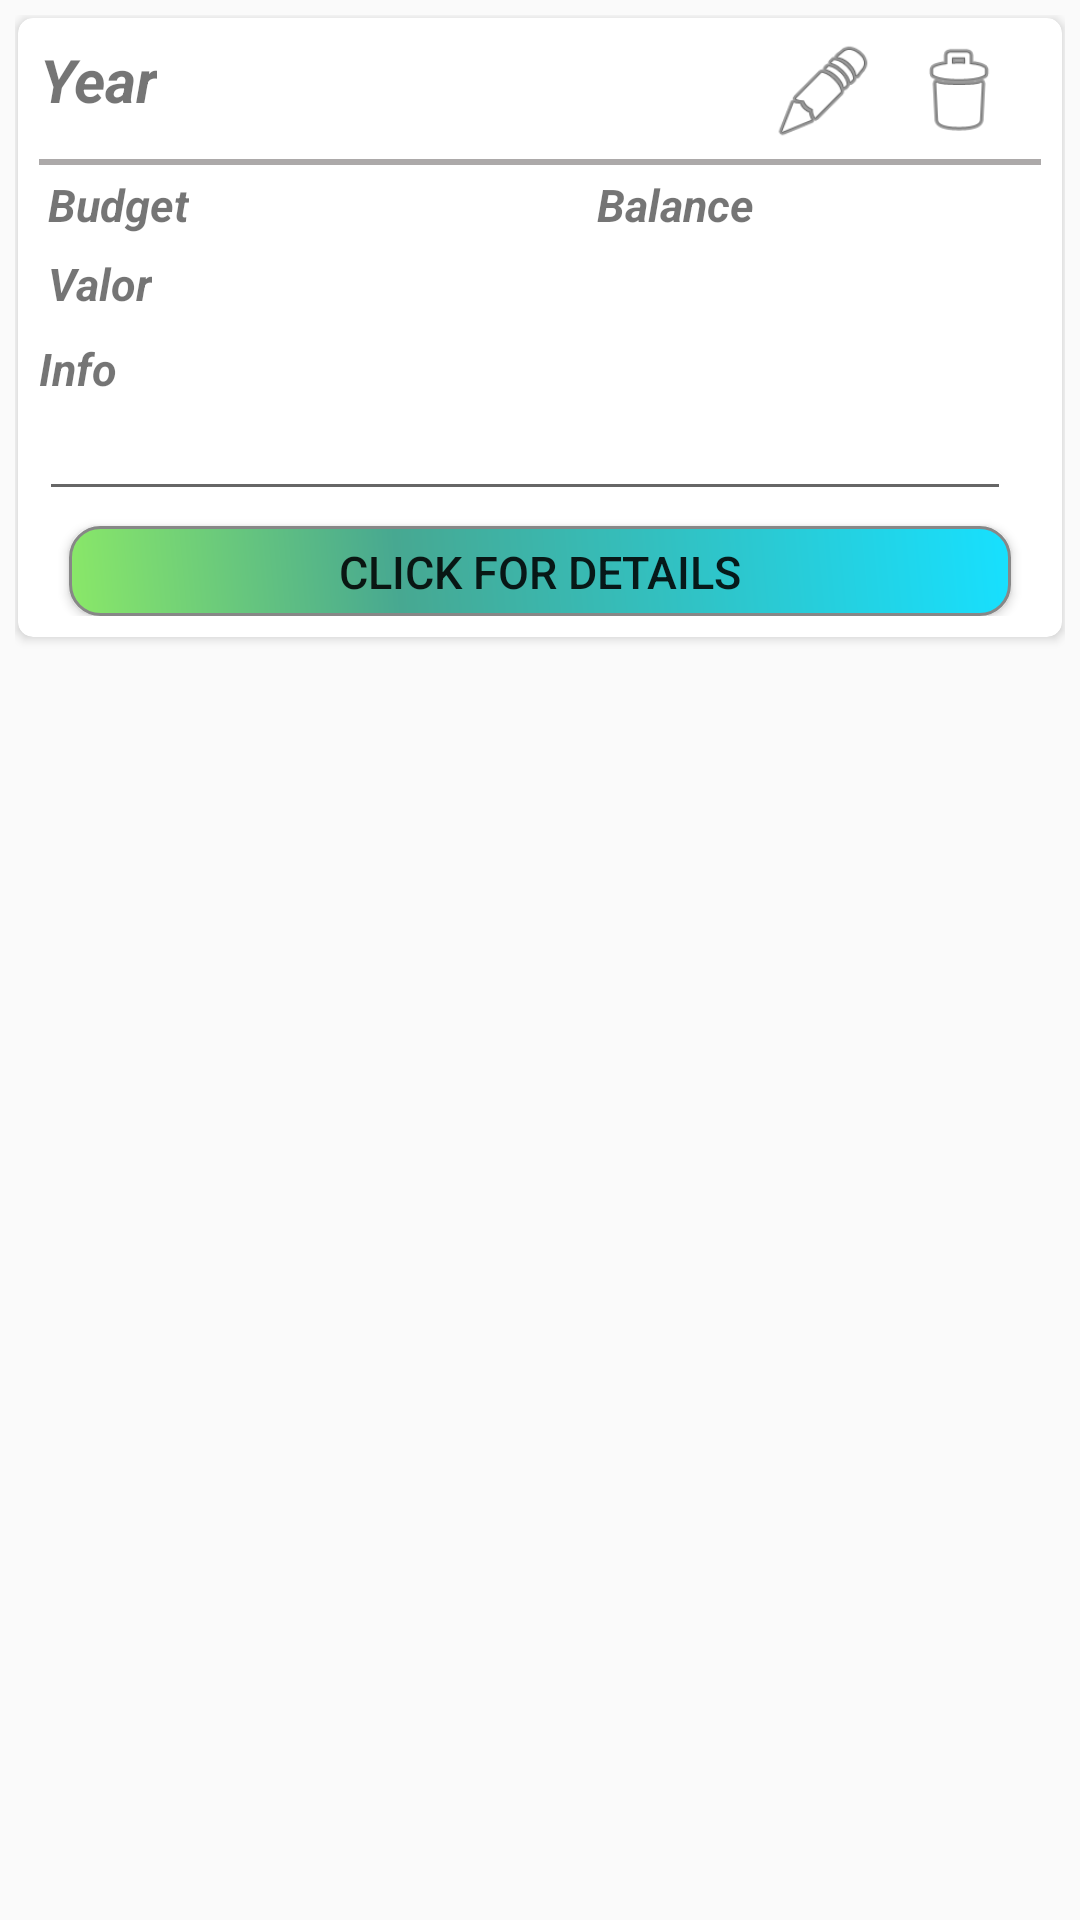

Point at icon controls on the screen. Image size 1080px×1920px, points as (x,y).
delete: (959,90)
edit: (823,90)
